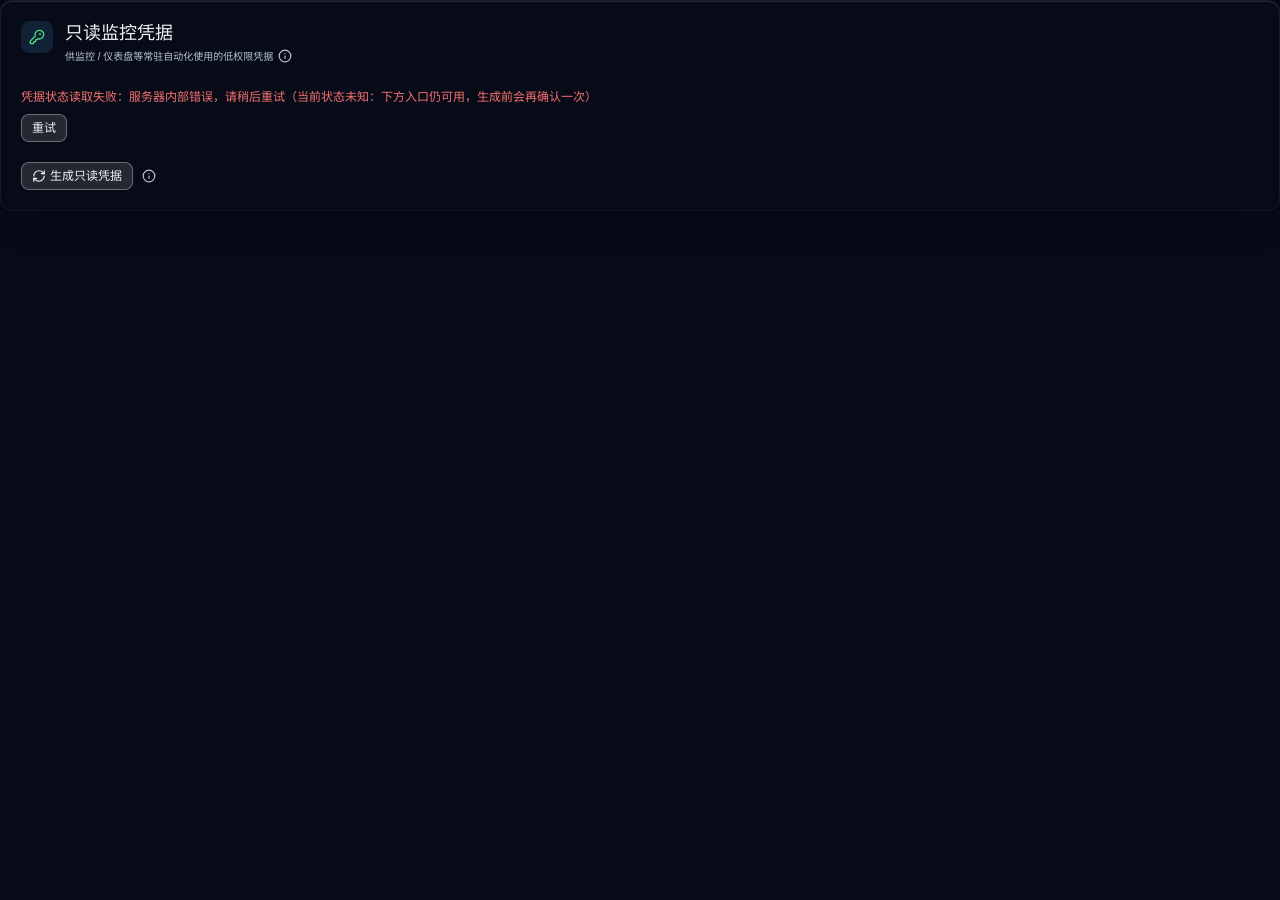
ReadonlyCredentialPanel 状态呈现 › 状态读取失败（未知态）：给出错误文案与重试，但**保留入口**且强制二次确认
Expected: the text "凭据状态读取失败：服务器内部错误，请稍后重试（当前状态未知：下方入口仍可用，生成前会再确认一次）" is shown, [21,88,597,106]
// 未知态不猜：入口仍可用（误隐藏比误显示糟）
Click the button "生成只读凭据".
click(77, 176)  # box [21,162,133,190]
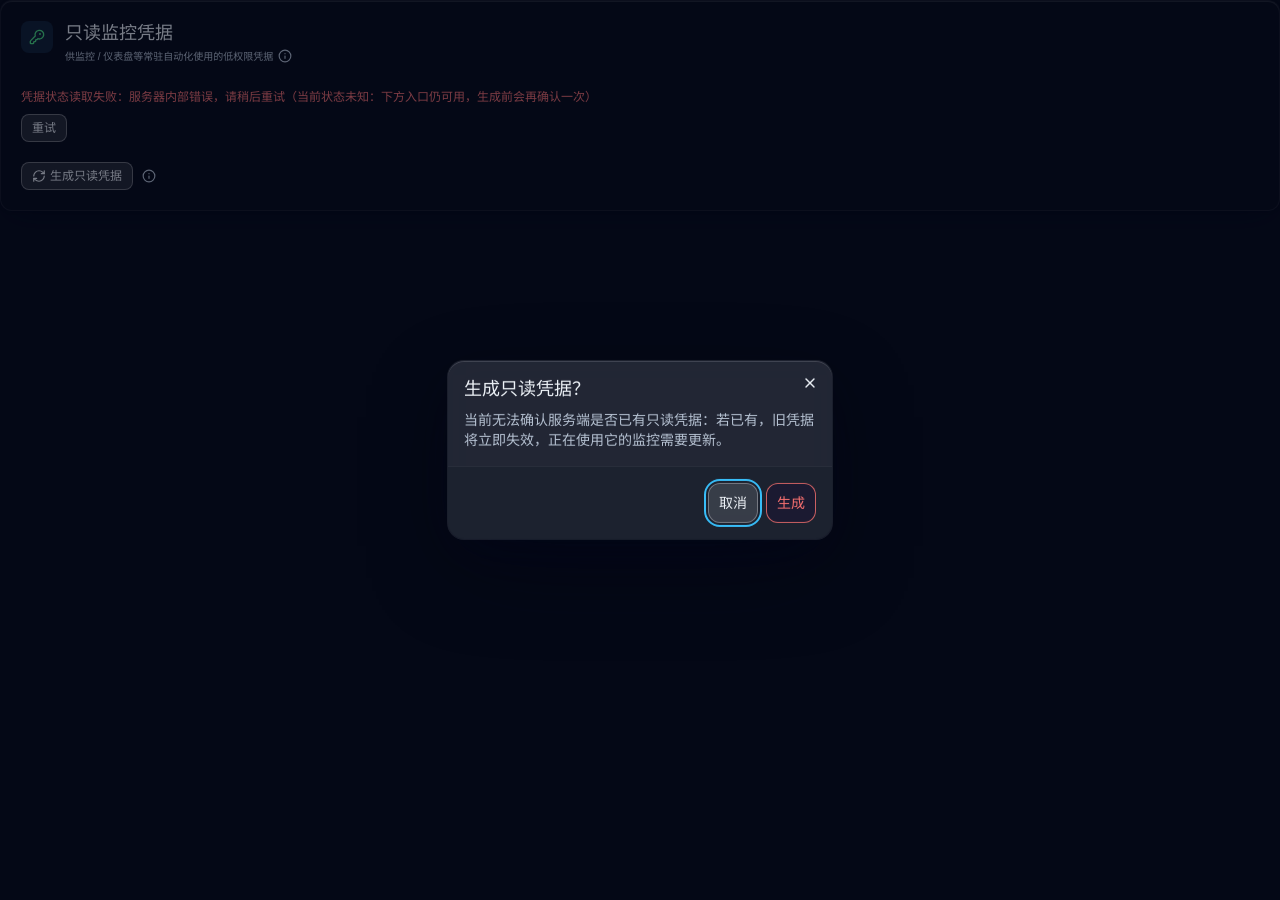
Expected: the text "当前无法确认服务端是否已有只读凭据：若已有，旧凭据将立即失效，正在使用它的监控需要更新。" is shown, [464,410,816,450]
